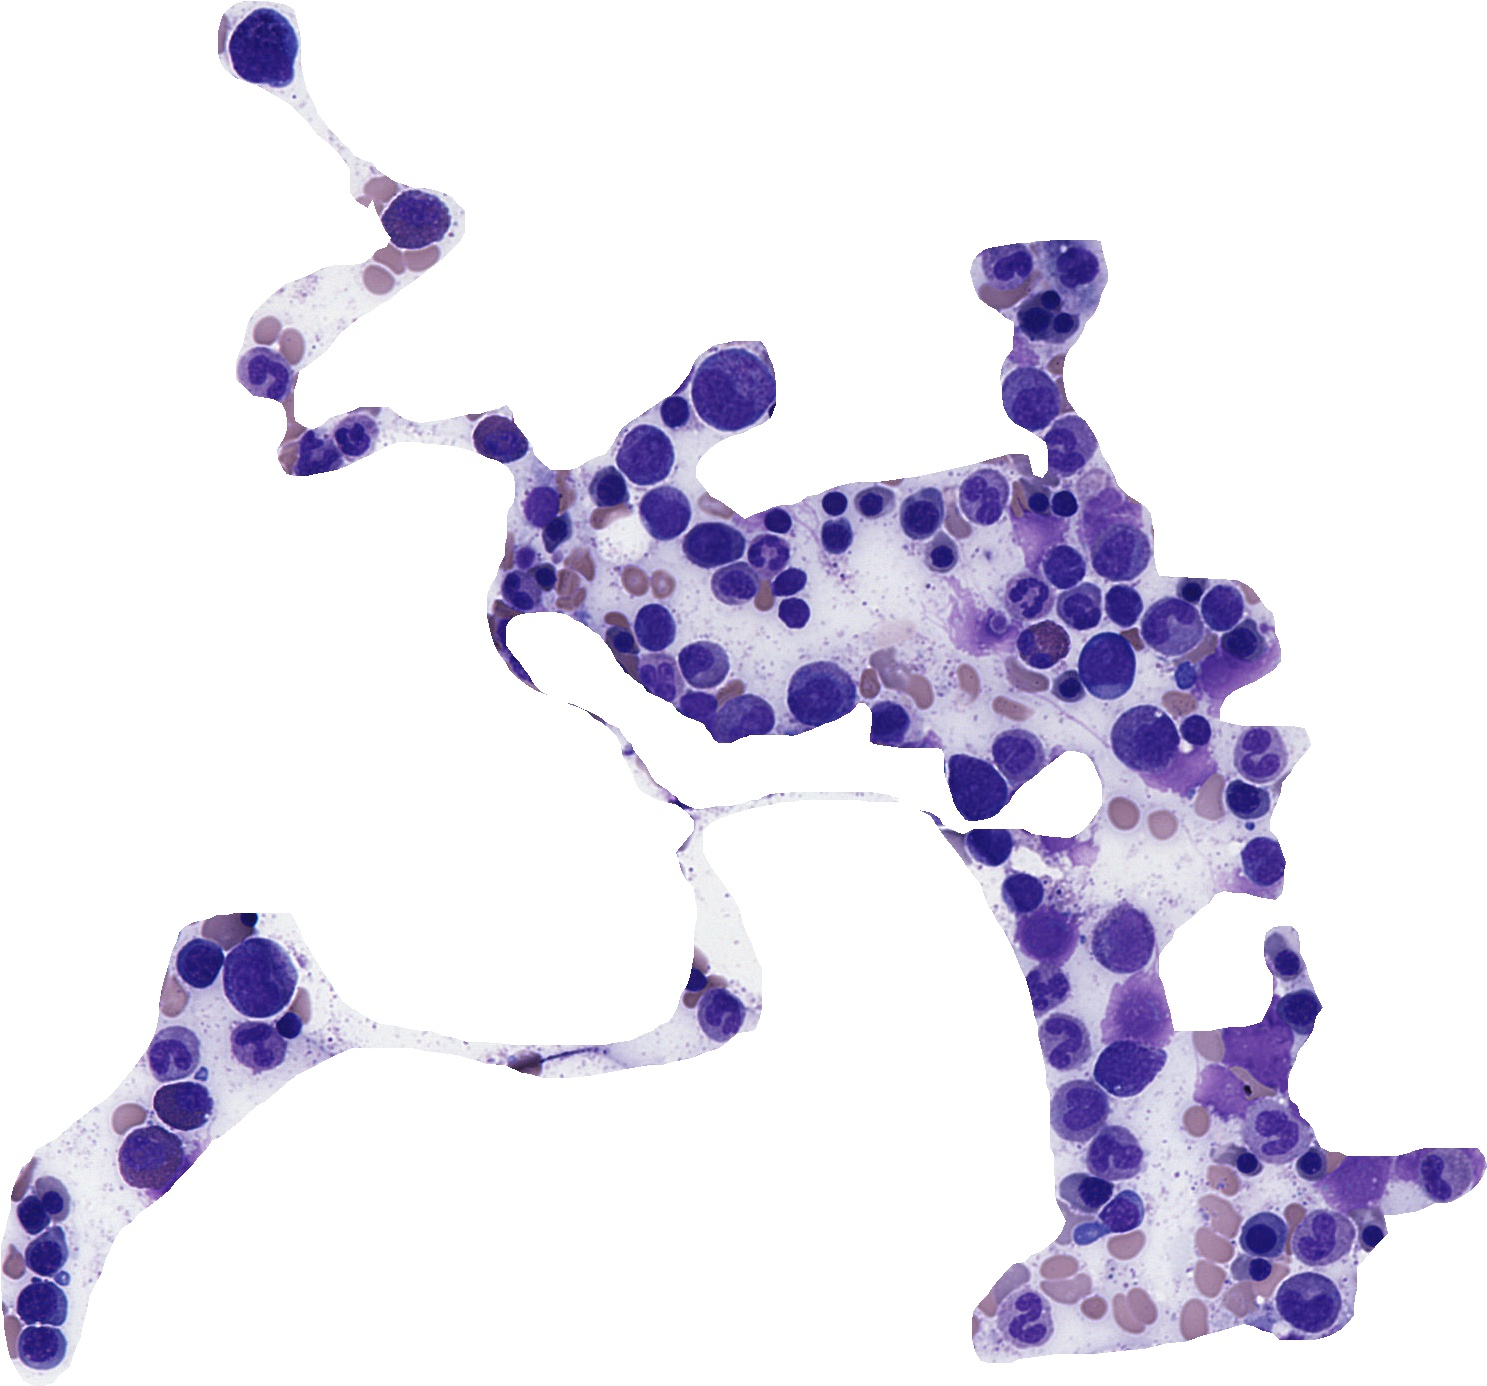objectness: (1040, 1013, 1091, 1064), (1234, 731, 1285, 782), (1020, 617, 1070, 668), (1020, 912, 1070, 963), (1079, 479, 1130, 530), (650, 386, 701, 436), (1040, 477, 1091, 528), (965, 821, 1016, 871), (1122, 989, 1173, 1039), (499, 531, 549, 582), (1197, 580, 1247, 630), (898, 488, 949, 539), (1217, 772, 1268, 823), (809, 511, 859, 561), (698, 987, 747, 1038), (145, 1025, 195, 1075), (743, 525, 794, 574), (1089, 1125, 1139, 1175), (289, 432, 339, 483), (986, 238, 1036, 288), (960, 469, 1010, 518), (329, 416, 379, 466), (638, 653, 688, 703), (243, 348, 293, 399), (492, 567, 542, 617), (232, 1021, 283, 1071), (1096, 529, 1147, 578), (794, 670, 844, 720), (1008, 374, 1059, 423), (708, 558, 758, 608), (641, 490, 690, 541), (721, 696, 772, 745), (676, 638, 727, 688), (1119, 713, 1169, 762), (121, 1131, 171, 1181), (475, 416, 525, 466), (161, 1073, 211, 1124), (389, 193, 439, 244), (1283, 1278, 1333, 1327), (1421, 1150, 1471, 1200), (1081, 638, 1132, 688), (516, 479, 566, 529), (1201, 653, 1251, 702), (1016, 505, 1065, 556), (1107, 917, 1158, 967), (1171, 706, 1221, 756), (1234, 1020, 1285, 1069), (1016, 477, 1065, 528), (997, 866, 1048, 916), (1161, 650, 1212, 700), (1010, 294, 1060, 345), (1161, 649, 1211, 700), (753, 495, 803, 544), (811, 477, 861, 528), (1051, 241, 1102, 290), (1238, 834, 1288, 884), (770, 584, 819, 634), (768, 558, 818, 608), (1099, 580, 1148, 630), (673, 679, 723, 729), (23, 1228, 74, 1278), (1288, 1137, 1339, 1187), (1228, 1243, 1277, 1294), (1046, 662, 1095, 713), (1240, 1208, 1289, 1258), (1025, 275, 1076, 324), (1165, 565, 1216, 615), (173, 937, 223, 987), (14, 1320, 64, 1370), (1346, 1208, 1396, 1258), (1260, 937, 1311, 986), (29, 1174, 78, 1224), (710, 362, 760, 412), (1017, 963, 1066, 1012), (1047, 419, 1096, 469), (1000, 1294, 1049, 1343), (1057, 582, 1107, 632), (1010, 565, 1060, 615), (1251, 1106, 1301, 1155), (1059, 1081, 1108, 1131), (990, 724, 1039, 774), (1147, 601, 1197, 650), (1299, 1215, 1349, 1265), (951, 766, 1000, 815), (1099, 1043, 1148, 1093), (622, 429, 672, 478), (954, 608, 1004, 658), (266, 1000, 315, 1050), (1329, 1155, 1379, 1205), (1092, 1192, 1142, 1241), (1039, 543, 1089, 593), (685, 518, 734, 568), (863, 696, 913, 745), (1197, 1068, 1246, 1118), (522, 554, 572, 603), (630, 599, 680, 649), (596, 616, 646, 666), (531, 505, 581, 555), (918, 529, 967, 578), (17, 1277, 66, 1326), (1039, 300, 1089, 349), (7, 1189, 56, 1239), (1276, 982, 1326, 1032), (583, 462, 633, 512), (1063, 1167, 1112, 1217), (1224, 1138, 1273, 1188), (846, 478, 896, 528)
